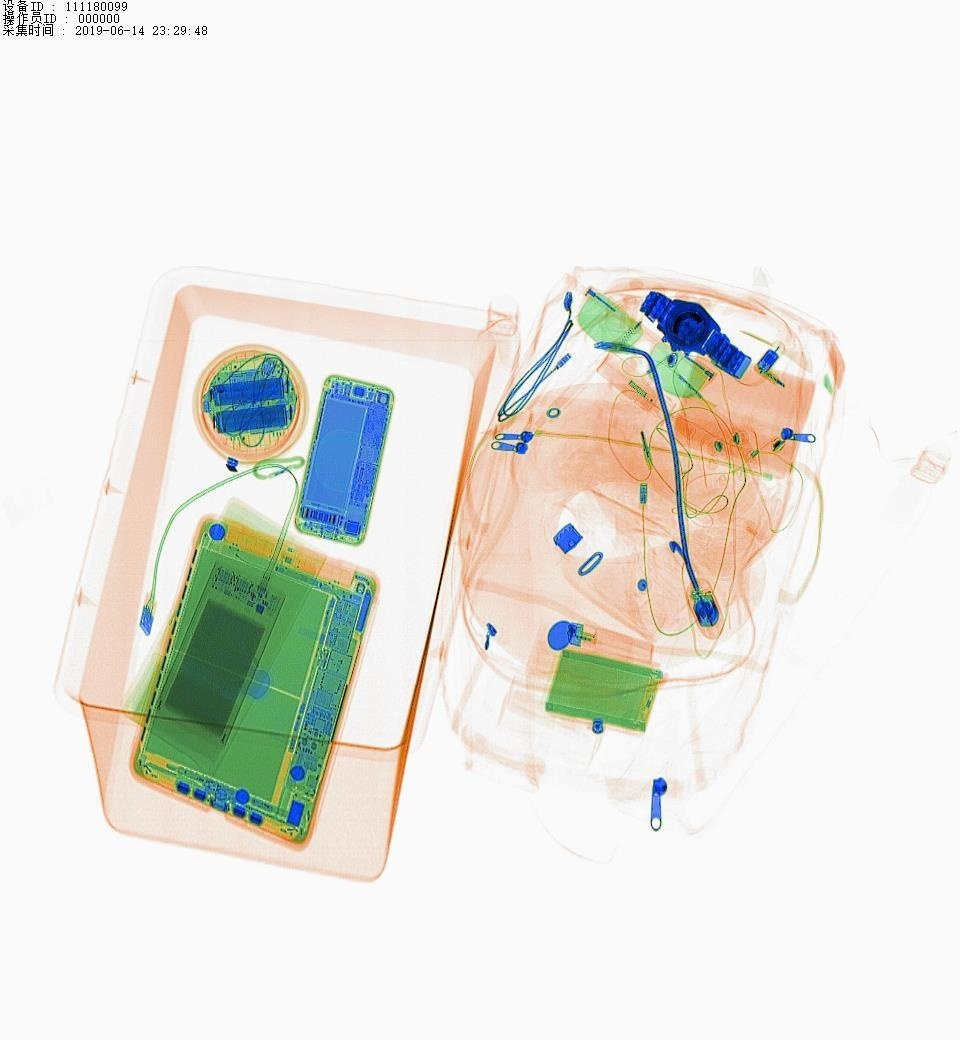NonmetallicFire: (545, 613, 681, 669)
